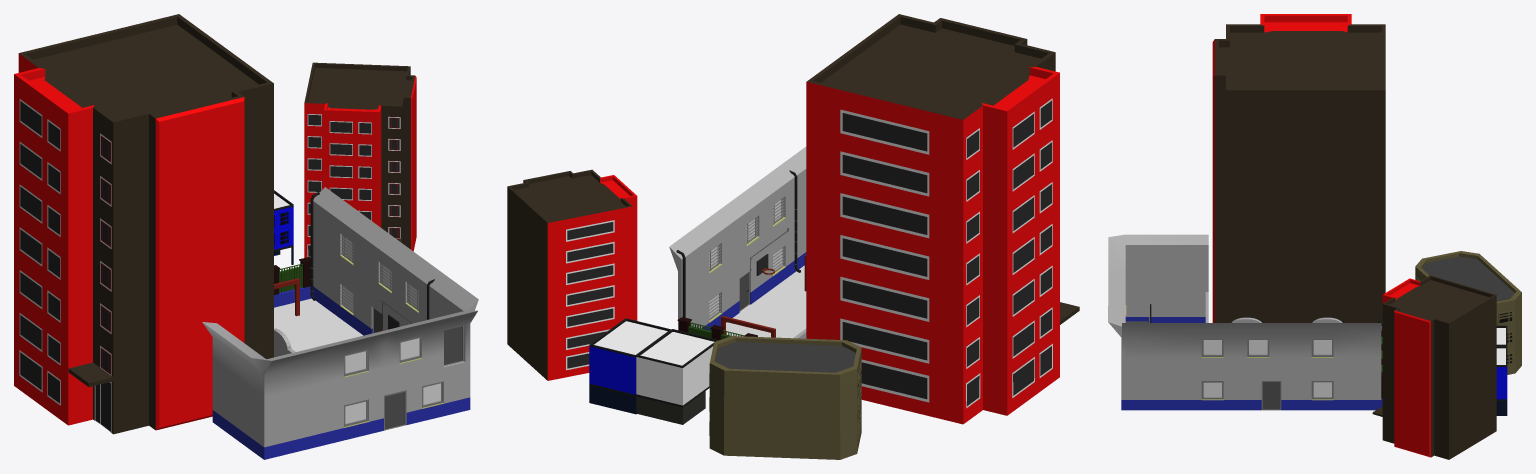
The model's file is gaia colegio(PRUEBA2).fbx.
The picture shows the model from 3 angles, left to right: view 1: azimuth 30°, elevation 25°; view 2: azimuth 150°, elevation 25°; view 3: azimuth 270°, elevation 25°; orthographic projection. The views are drawn at different scales.
Visible parts, largest first — view 1: Cube.448, Muros, Cube.455, Muros Abajo Azul, Suelo, Cristal ventanas, VerJas y Marcos Ventanas, Puertas, Cube.454, Tuberias; view 2: Cube.448, Cube.455, Cube.420, Muros, Cube.453, Cube.454, Suelo, Muros Abajo Azul, VerJas y Marcos Ventanas, Cristal ventanas, Tuberias; view 3: Cube.448, Muros, Cube.455, Cube.420, Muros Abajo Azul, Cristal ventanas, VerJas y Marcos Ventanas, Cube.454, Puertas.
Boxes of the visible parts, left/top/right/bottom form: Cube.448: left=14, top=14, right=273, bottom=434; Muros: left=202, top=187, right=478, bottom=447; Cube.455: left=304, top=62, right=416, bottom=257; Muros Abajo Azul: left=212, top=286, right=470, bottom=459; Suelo: left=274, top=298, right=362, bottom=351; Cristal ventanas: left=343, top=236, right=441, bottom=423; VerJas y Marcos Ventanas: left=341, top=235, right=443, bottom=426; Puertas: left=374, top=309, right=462, bottom=429; Cube.454: left=274, top=190, right=293, bottom=264; Tuberias: left=310, top=191, right=434, bottom=319; Cube.448: left=806, top=14, right=1079, bottom=424; Cube.455: left=507, top=169, right=637, bottom=380; Cube.420: left=709, top=336, right=861, bottom=459; Muros: left=669, top=146, right=806, bottom=338; Cube.453: left=636, top=329, right=718, bottom=424; Cube.454: left=589, top=318, right=670, bottom=414; Suelo: left=726, top=265, right=806, bottom=338; Muros Abajo Azul: left=702, top=252, right=806, bottom=330; VerJas y Marcos Ventanas: left=709, top=197, right=784, bottom=320; Cristal ventanas: left=709, top=199, right=782, bottom=317; Tuberias: left=676, top=170, right=800, bottom=317; Cube.448: left=1212, top=14, right=1385, bottom=330; Muros: left=1108, top=234, right=1381, bottom=399; Cube.455: left=1372, top=275, right=1496, bottom=459; Cube.420: left=1415, top=251, right=1521, bottom=374; Muros Abajo Azul: left=1121, top=317, right=1381, bottom=410; Cristal ventanas: left=1203, top=340, right=1331, bottom=397; VerJas y Marcos Ventanas: left=1201, top=338, right=1333, bottom=399; Cube.454: left=1496, top=346, right=1507, bottom=415; Puertas: left=1263, top=382, right=1280, bottom=409.
Size of the model in its own units: 41.08 by 38.43 by 28.07.
